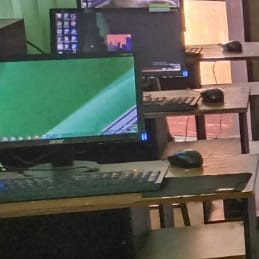monitor: (0, 51, 150, 168), (49, 6, 189, 79), (0, 18, 27, 59)
